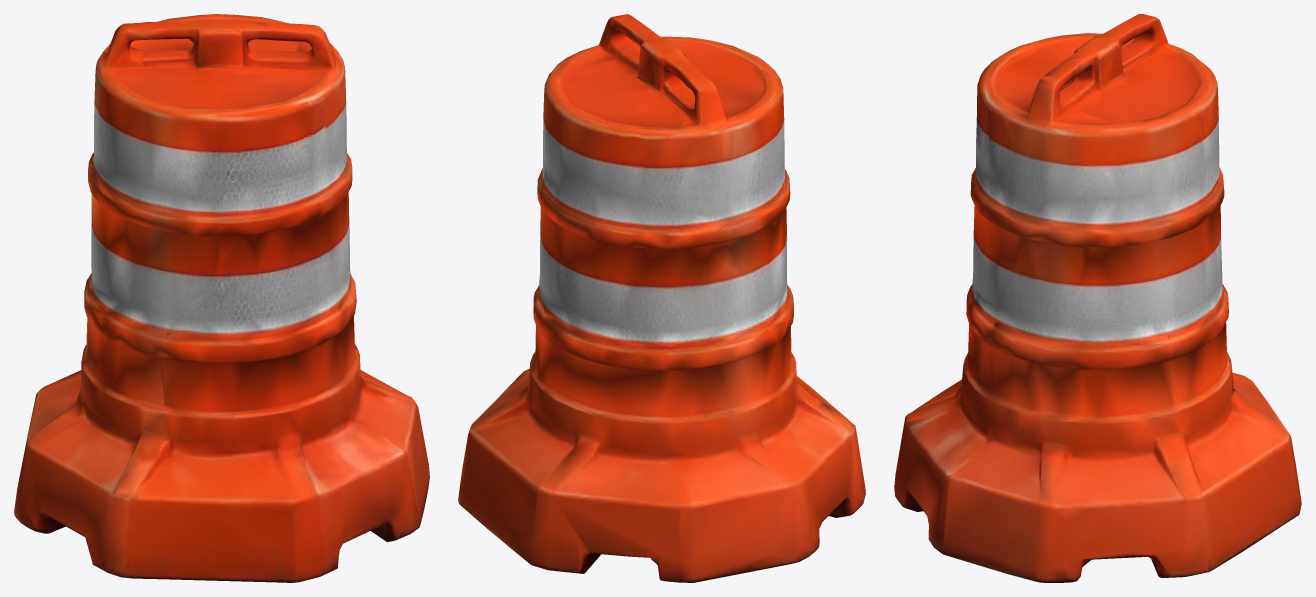
File: tambor-sinalizacao_lod0.glb
The picture shows the model from 3 angles, left to right: view 1: azimuth 30°, elevation 25°; view 2: azimuth 150°, elevation 25°; view 3: azimuth 270°, elevation 25°; orthographic projection. The views are drawn at different scales.
Parts seen in each view (by area): view 1: tripo_node_f1423d87-b233-4f60-9383-6a28a61329a1; view 2: tripo_node_f1423d87-b233-4f60-9383-6a28a61329a1; view 3: tripo_node_f1423d87-b233-4f60-9383-6a28a61329a1.
Part boxes in pixels (<box>): tripo_node_f1423d87-b233-4f60-9383-6a28a61329a1: <box>14,14,429,582</box>; tripo_node_f1423d87-b233-4f60-9383-6a28a61329a1: <box>458,14,865,582</box>; tripo_node_f1423d87-b233-4f60-9383-6a28a61329a1: <box>894,14,1301,582</box>.
Bounding box in the file's own units: 0.8172 × 1.05 × 0.8383.
1 material, 1 textured.
